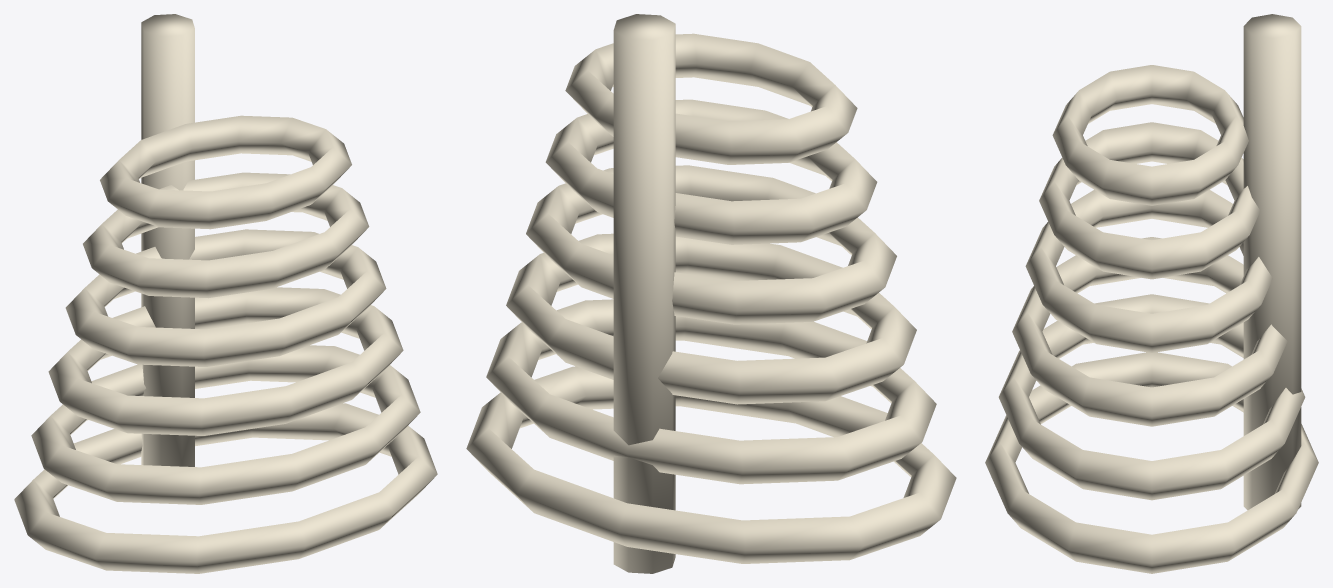
The model's file is bone_item_ribcage_small.glb.
3 views of the same model, side by side, from view 1: azimuth 30°, elevation 25°; view 2: azimuth 150°, elevation 25°; view 3: azimuth 270°, elevation 25° (orthographic). The views are drawn at different scales.
Visible parts, largest first — view 1: GD_bone_item_ribcage_small__m0; view 2: GD_bone_item_ribcage_small__m0; view 3: GD_bone_item_ribcage_small__m0.
Boxes of the visible parts, x1,y1,x2,y2 form: GD_bone_item_ribcage_small__m0: (14,14,437,573); GD_bone_item_ribcage_small__m0: (466,14,956,573); GD_bone_item_ribcage_small__m0: (985,14,1318,573).
Size of the model in its own units: 0.198 by 0.22 by 0.1386.
